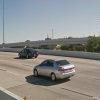Car: (25, 60, 80, 86)
